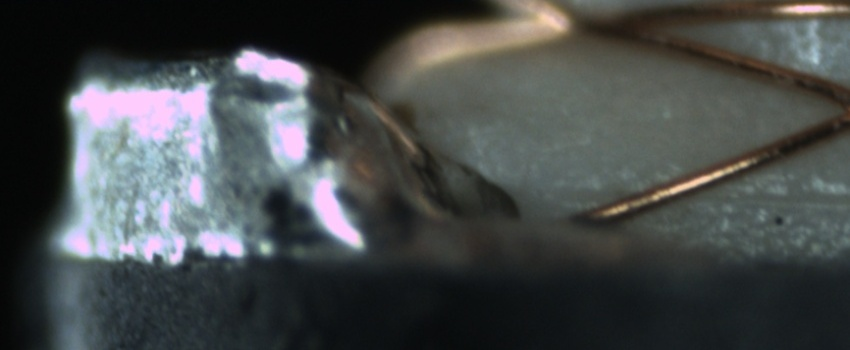DL: (689, 164, 850, 228)
